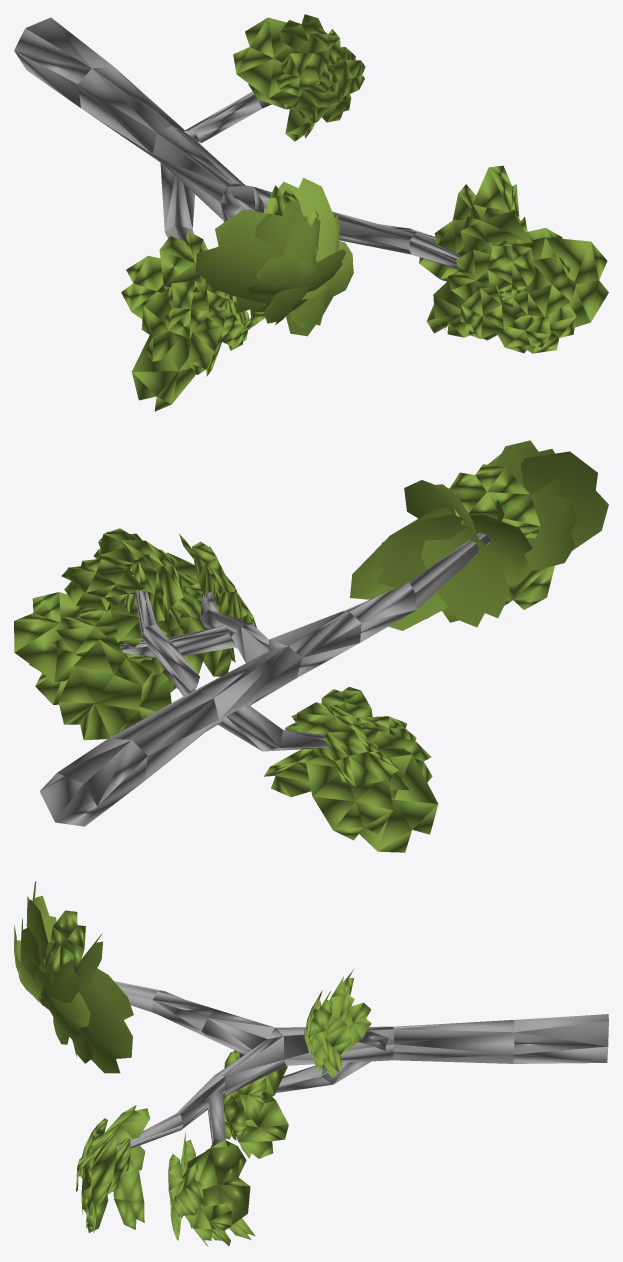
The model's file is Tree_type1.FBX.
The picture shows the model from 3 angles, top to bottom: view 1: azimuth 30°, elevation 25°; view 2: azimuth 150°, elevation 25°; view 3: azimuth 270°, elevation 25°; orthographic projection. The views are drawn at different scales.
Visible parts, largest first — view 1: Derevo_type3_01; view 2: Derevo_type3_01; view 3: Derevo_type3_01.
Part boxes in pixels (x1,y1,x2,y2): Derevo_type3_01: [14, 14, 608, 411]; Derevo_type3_01: [14, 440, 608, 852]; Derevo_type3_01: [14, 881, 608, 1246].
Size of the model in its own units: 255 by 165 by 349.
